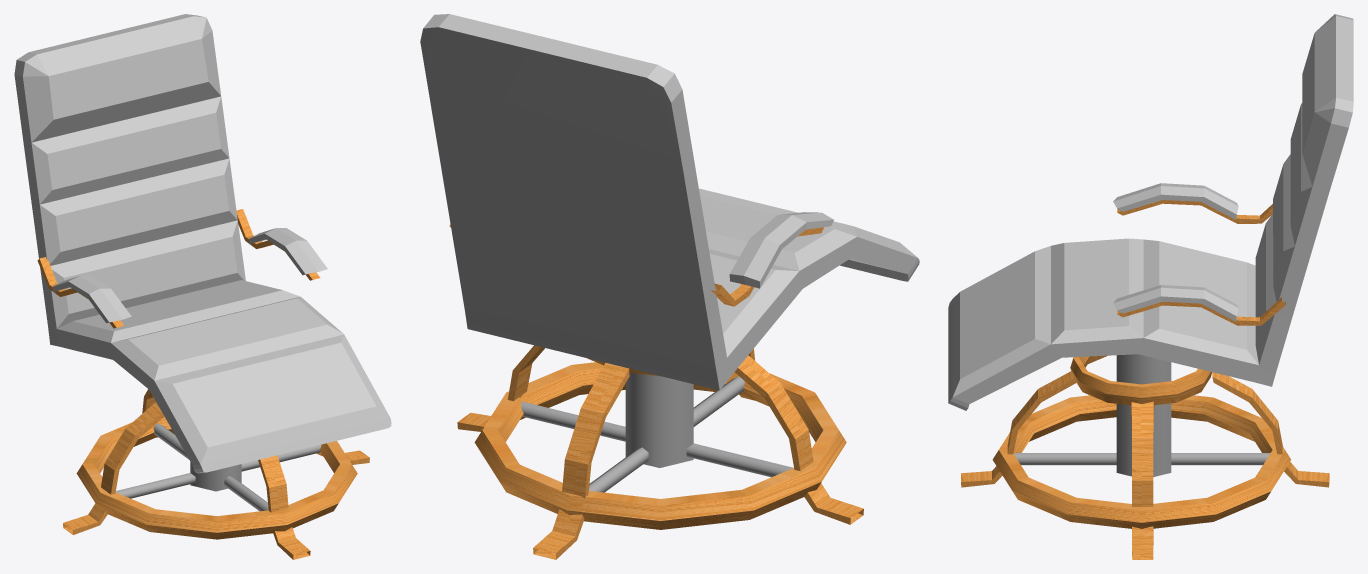
Rendered from relax2.FBX.
The picture shows the model from 3 angles, left to right: view 1: azimuth 30°, elevation 25°; view 2: azimuth 150°, elevation 25°; view 3: azimuth 270°, elevation 25°; orthographic projection. The views are drawn at different scales.
Visible parts, largest first — view 1: relax02, relax_2_bois, Cylinder04; view 2: relax02, relax_2_bois, Cylinder04; view 3: relax02, relax_2_bois, Cylinder04.
Boxes of the visible parts, box(x1,y1,x2,y2) form: relax02: box(14, 14, 391, 473); relax_2_bois: box(37, 209, 369, 559); Cylinder04: box(115, 423, 321, 511); relax02: box(420, 14, 919, 390); relax_2_bois: box(449, 224, 863, 559); Cylinder04: box(521, 372, 793, 492); relax02: box(948, 14, 1353, 410); relax_2_bois: box(961, 200, 1329, 559); Cylinder04: box(1014, 354, 1270, 476).
Size of the model in its own units: 9.17 by 11.68 by 10.2.
